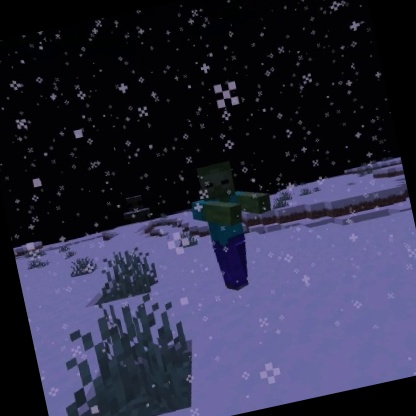zombie: (179, 150, 291, 299)
